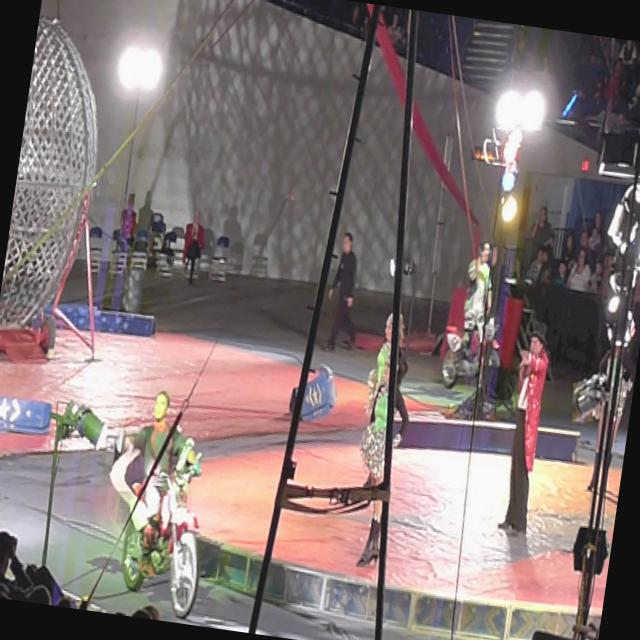Vehicle: (92, 437, 217, 620), (438, 313, 497, 395)
